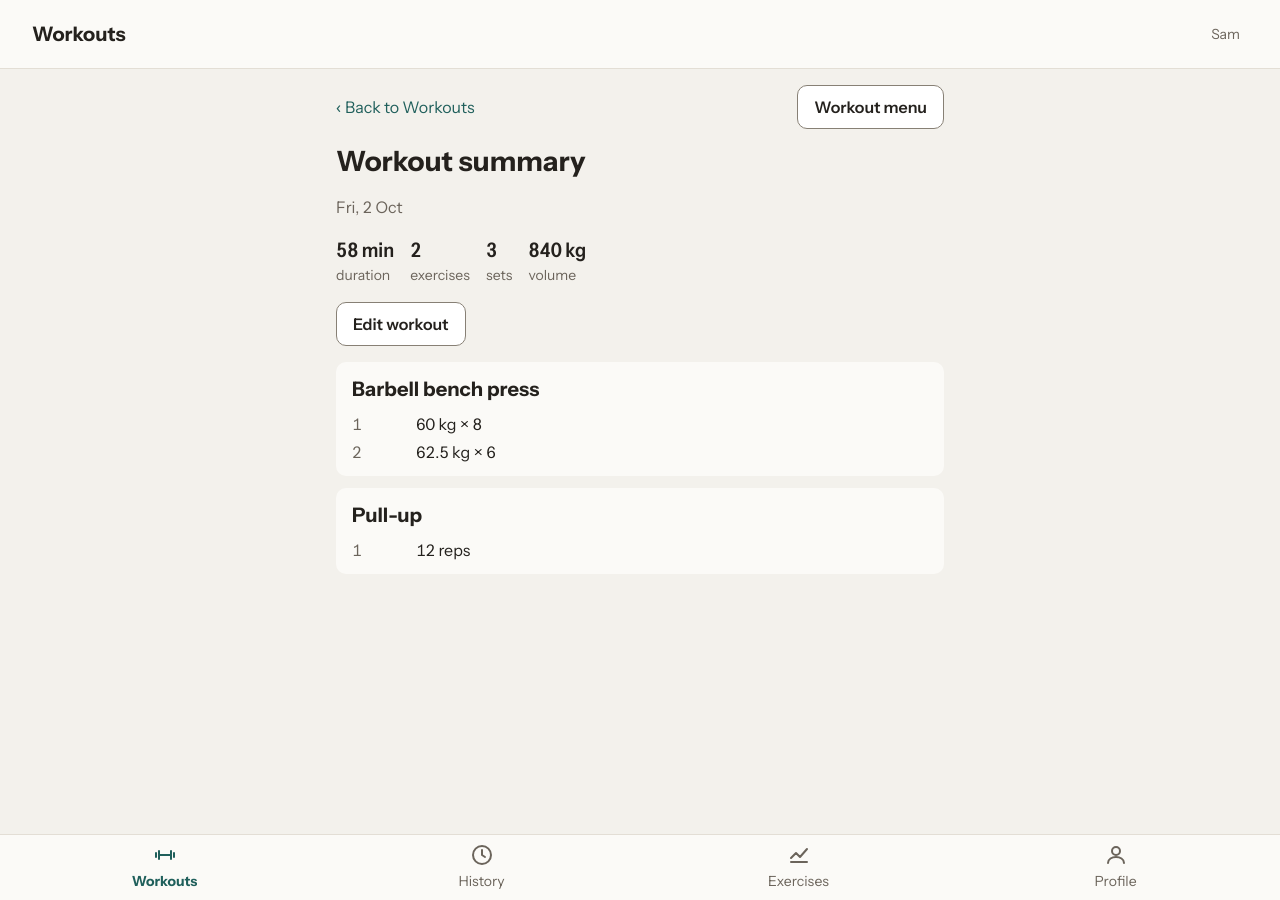
Test: AC30 — finished workout summary › Cancel keeps the workout
Expected: the heading "Workout summary" is shown, x1=336 y1=144 x2=585 y2=178
Click the button "Workout menu": (871, 107) x1=797 y1=85 x2=944 y2=129
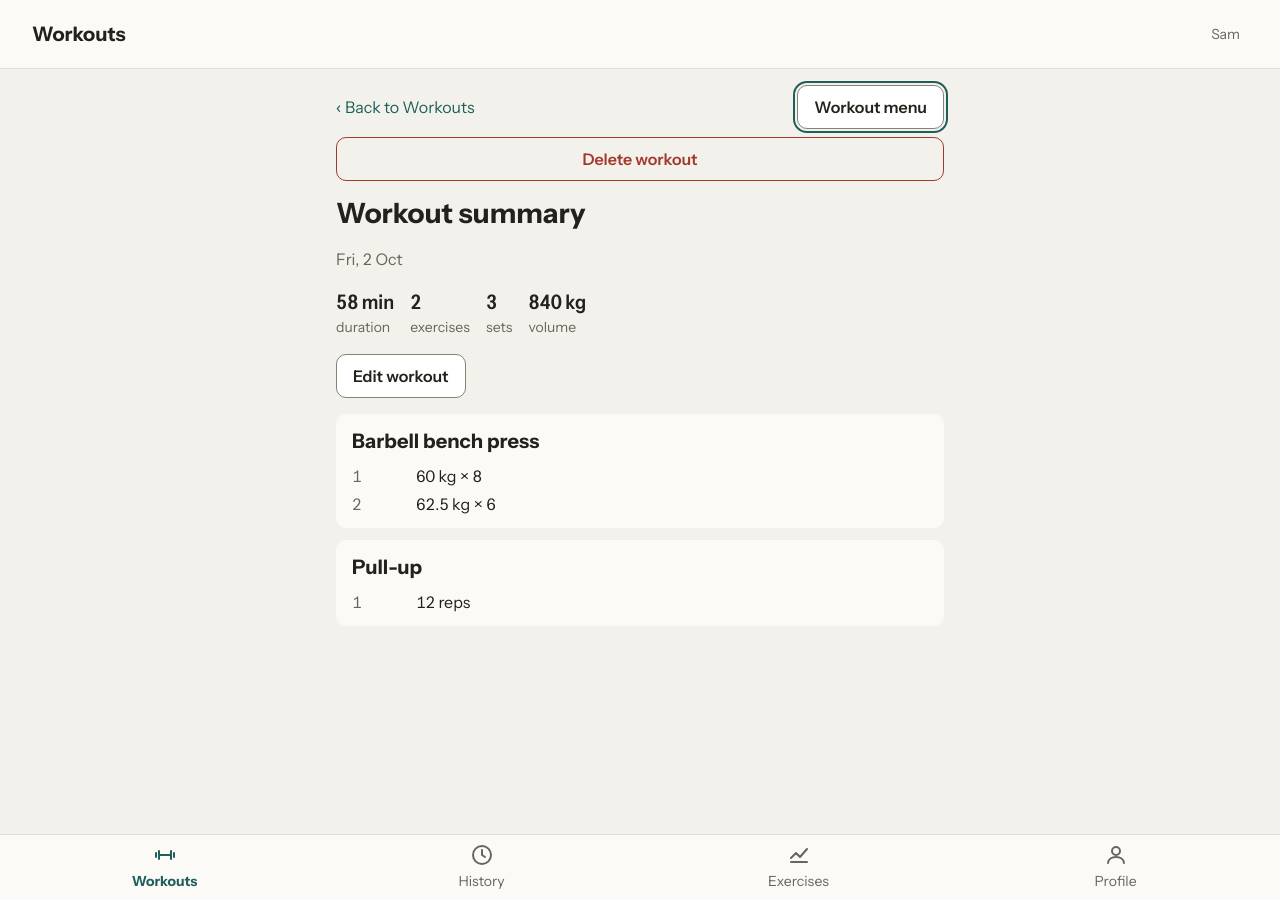
Click the button "Delete workout": (640, 159) x1=336 y1=137 x2=944 y2=181
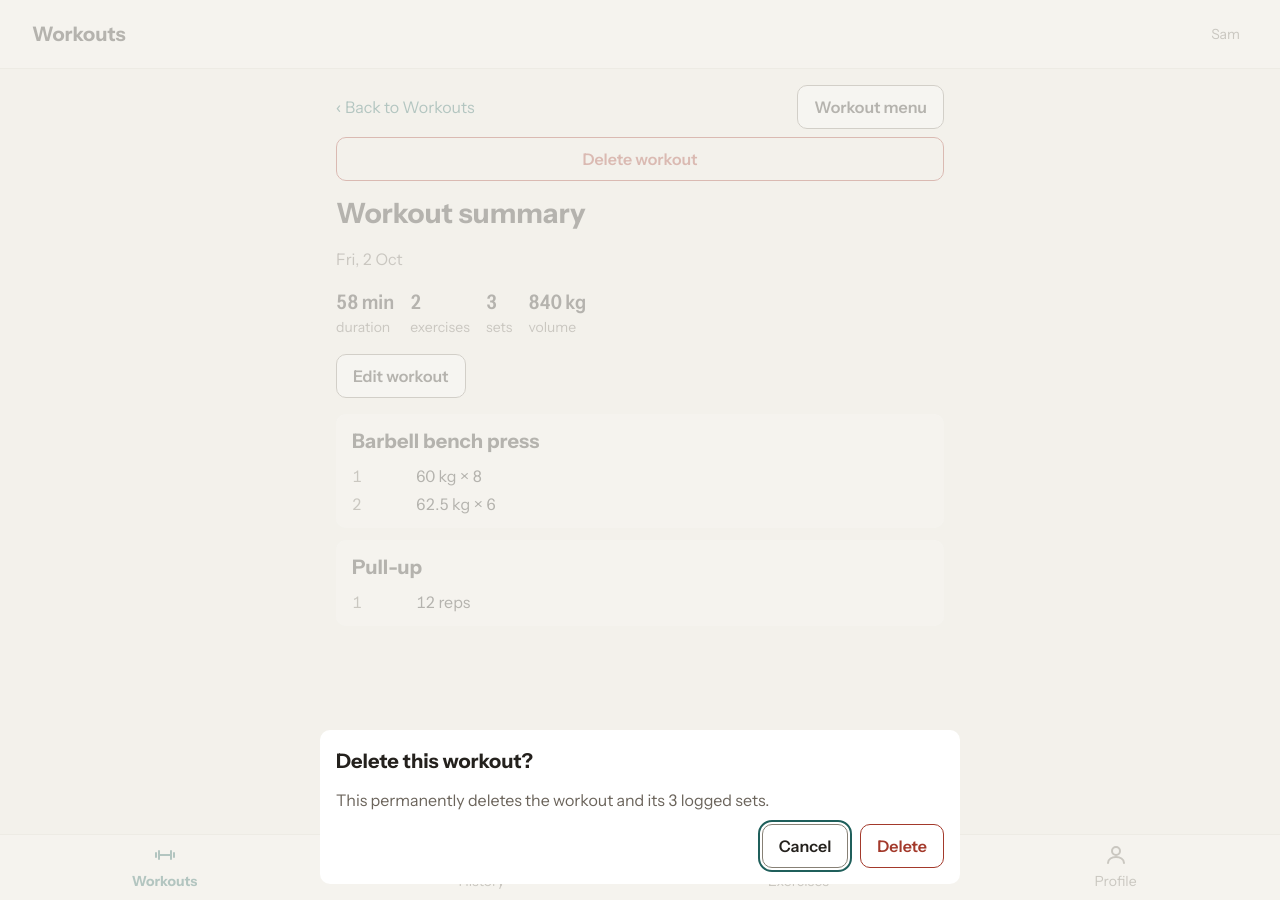
Click the button "Cancel": (805, 846) x1=762 y1=824 x2=848 y2=868
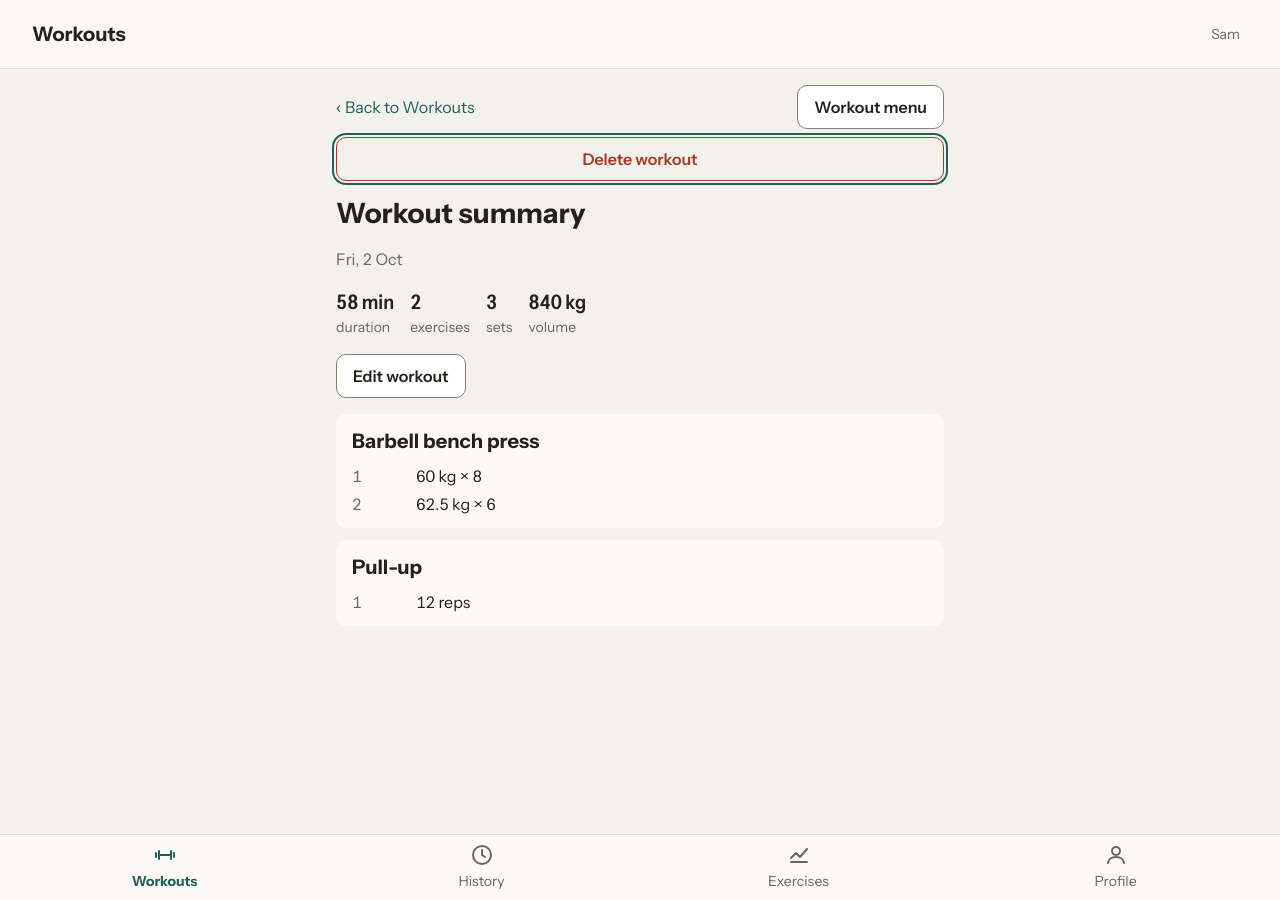
Expected: the heading "Delete this workout?" is gone
